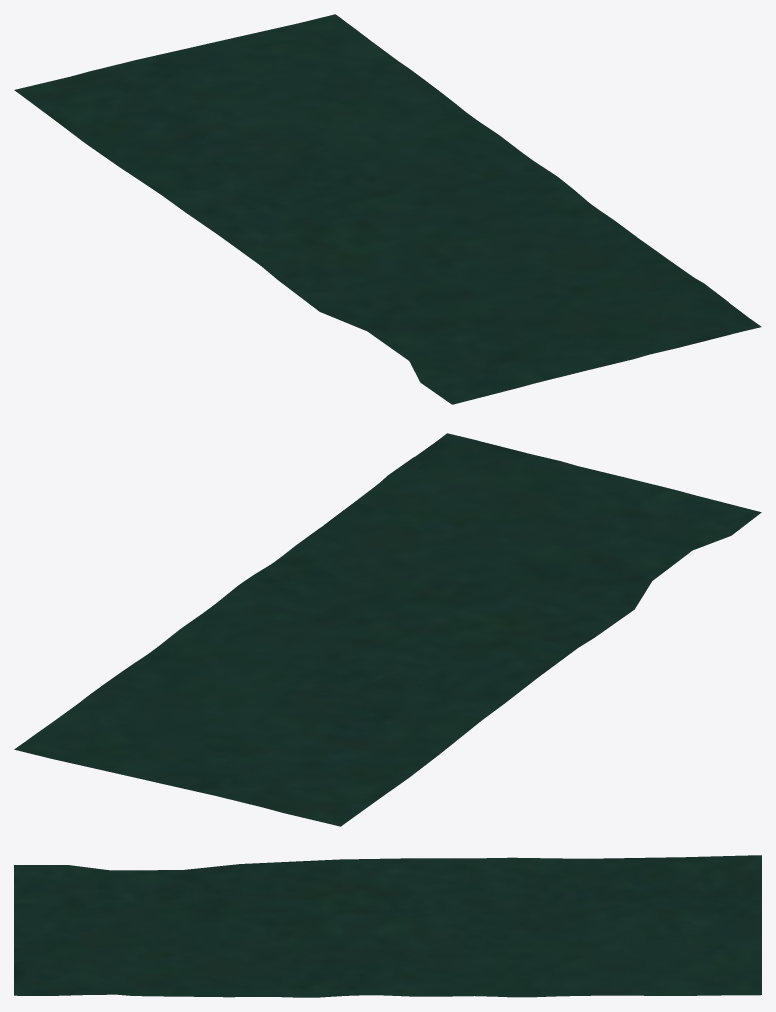
3 views of the same model, one above another, from view 1: azimuth 30°, elevation 25°; view 2: azimuth 150°, elevation 25°; view 3: azimuth 270°, elevation 25° (orthographic). The views are drawn at different scales.
Size of the model in its own units: 22.74 by 0.5071 by 52.22.
Materials: 1 (1 with a texture image).
